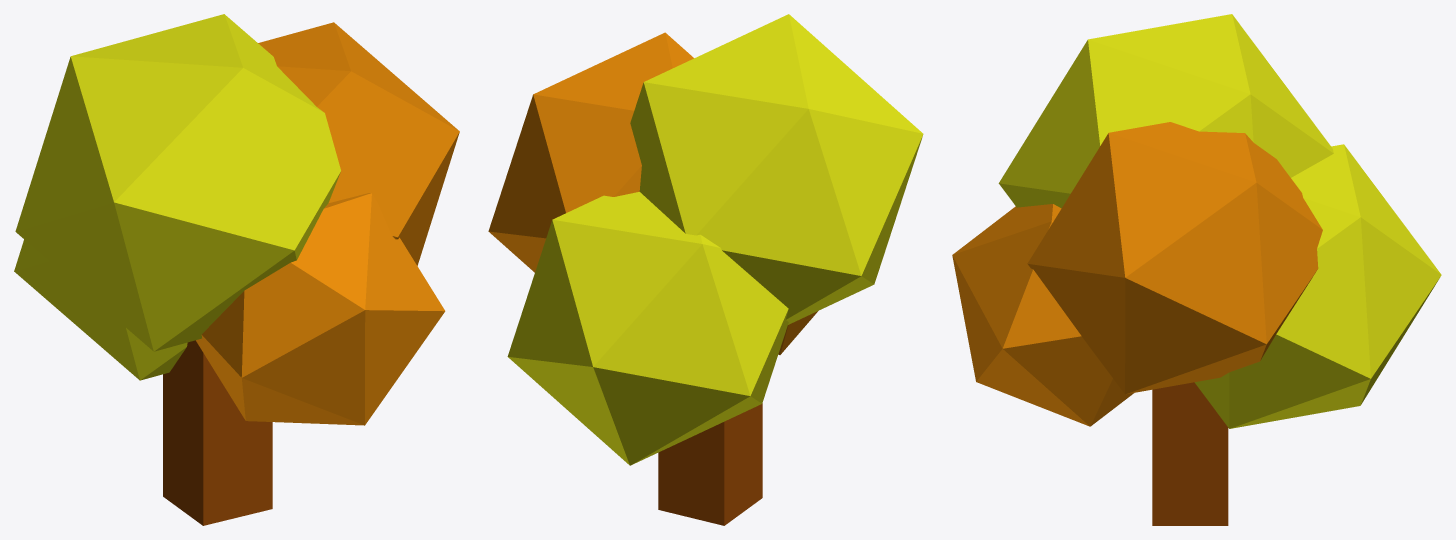
Rendered from wood3.fbx.
The picture shows the model from 3 angles, left to right: view 1: azimuth 30°, elevation 25°; view 2: azimuth 150°, elevation 25°; view 3: azimuth 270°, elevation 25°; orthographic projection. The views are drawn at different scales.
Visible parts, largest first — view 1: wood.002; view 2: wood.002; view 3: wood.002.
Boxes of the visible parts, left/top/right/bottom form: wood.002: left=14, top=14, right=459, bottom=525; wood.002: left=488, top=14, right=923, bottom=525; wood.002: left=952, top=14, right=1441, bottom=525.
Size of the model in its own units: 233 by 276 by 268.
